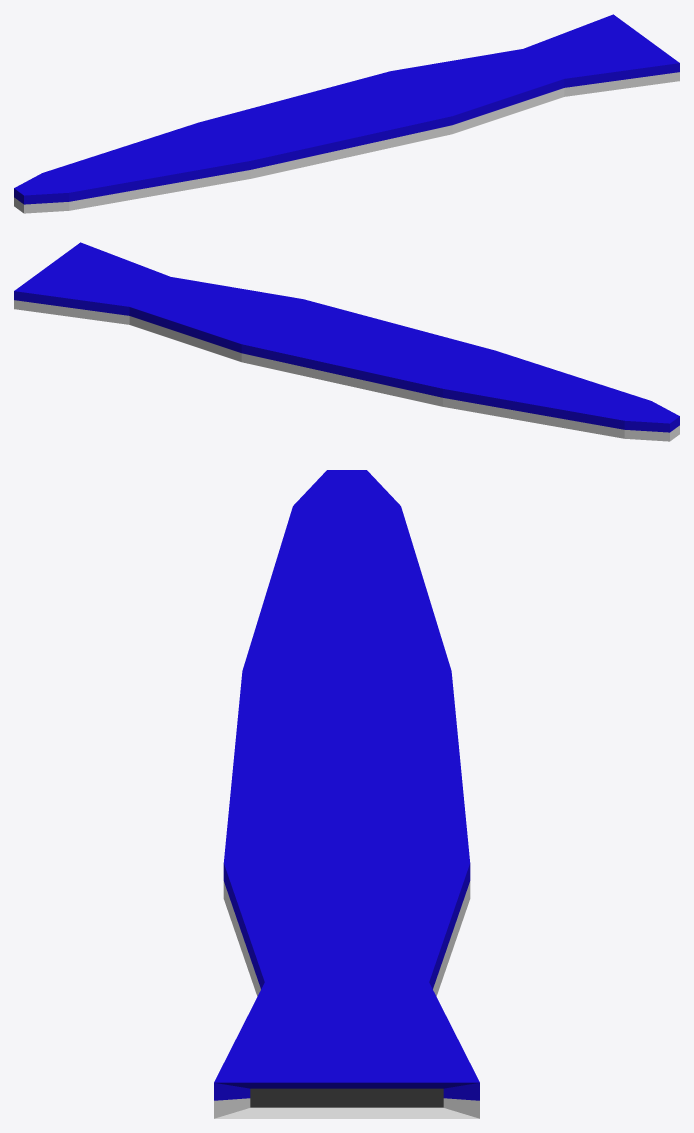
The model's file is Hoverboard1 (old).fbx.
3 views of the same model, one above another, from view 1: azimuth 30°, elevation 25°; view 2: azimuth 150°, elevation 25°; view 3: azimuth 270°, elevation 25° (orthographic). The views are drawn at different scales.
Parts seen in each view (by area): view 1: Cube; view 2: Cube; view 3: Cube.
Part boxes in pixels (x1,y1,x2,y2): Cube: (14,14,679,213); Cube: (14,242,679,441); Cube: (214,470,479,1118).
Bounding box in the file's own units: 1073 × 29.47 × 197.
